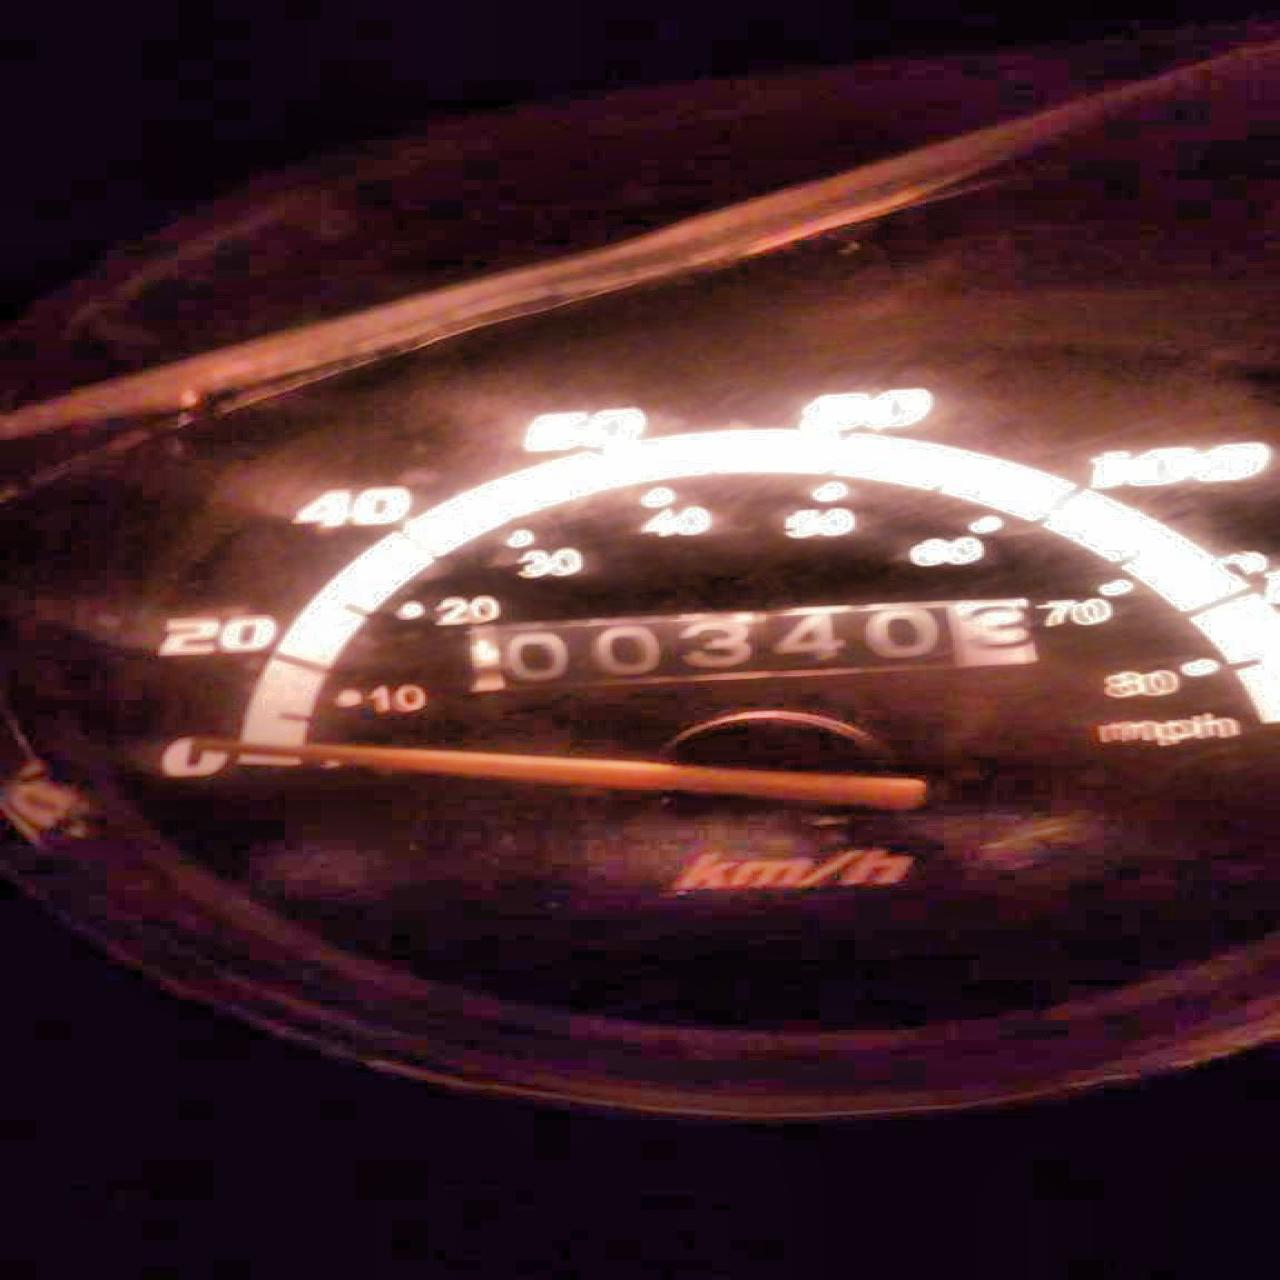0: (862, 606, 940, 659), (592, 624, 661, 675), (503, 629, 570, 681), (468, 597, 503, 621)
3: (673, 620, 753, 668), (964, 604, 1035, 648)
4: (772, 611, 846, 659)
odometer: (458, 595, 1042, 696)
